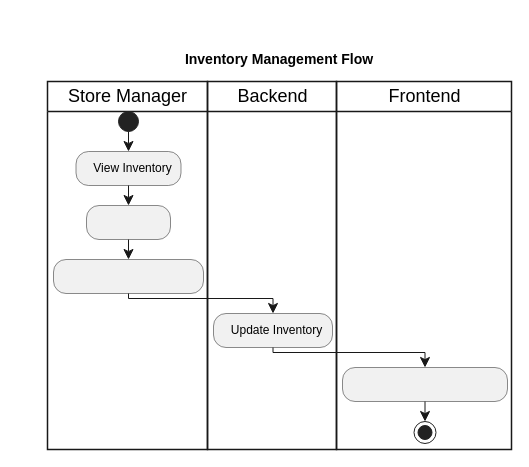
This 529x467 diagram has some shape labels left out. The shapes that lost their labels are listed below. From the top down, each one's centre as x and y in pixels, then its label:
At pixel 128 222: "Select Item".
At pixel 128 276: "Update Stock Quantity".
At pixel 424 384: "Display Success Message".
